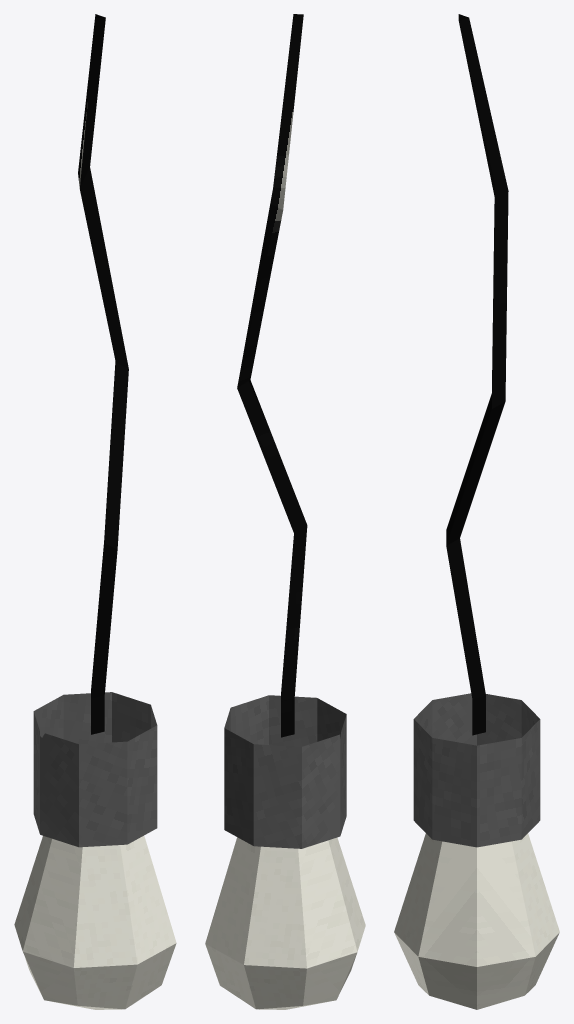
File: lightbulb.fbx
3 renders of one model, left to right at view 1: azimuth 30°, elevation 25°; view 2: azimuth 150°, elevation 25°; view 3: azimuth 270°, elevation 25°, orthographic.
Parts seen in each view (by area): view 1: lightbulb; view 2: lightbulb; view 3: lightbulb.
Part boxes in pixels (left/top/right/bottom): lightbulb: left=14, top=14, right=176, bottom=1009; lightbulb: left=205, top=14, right=365, bottom=1009; lightbulb: left=394, top=14, right=559, bottom=1009.
Bounding box in the file's own units: 8.85 × 58.21 × 8.85.
